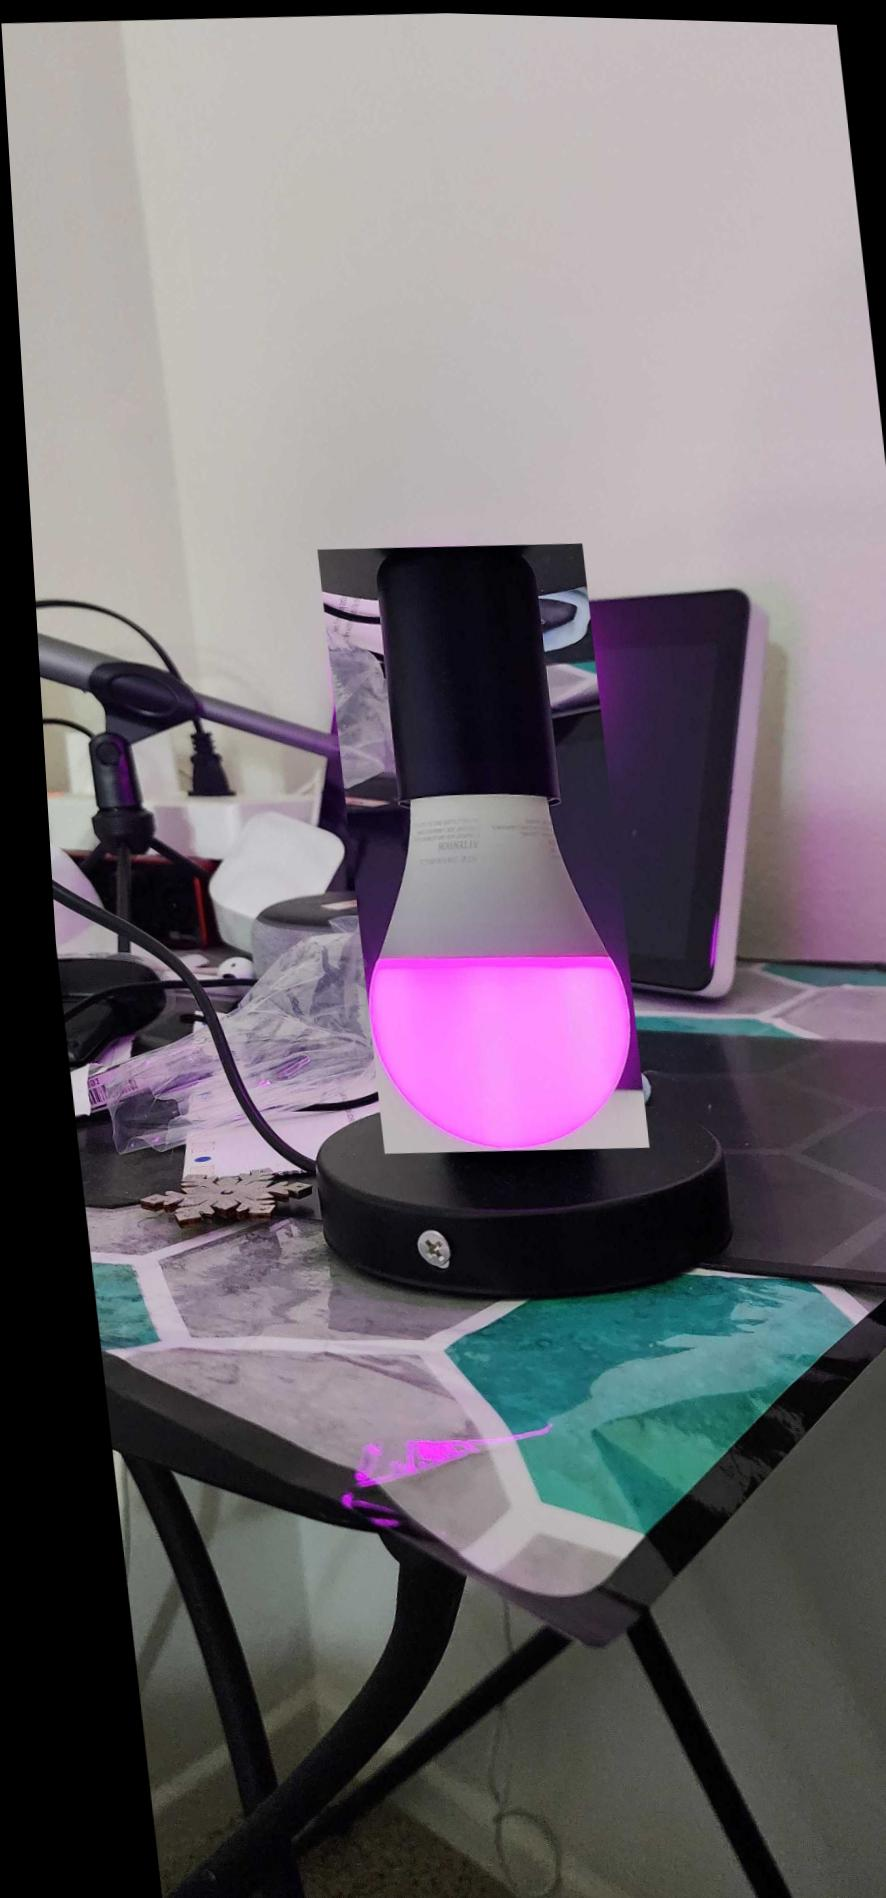TubeLight: (309, 533, 634, 1156)
